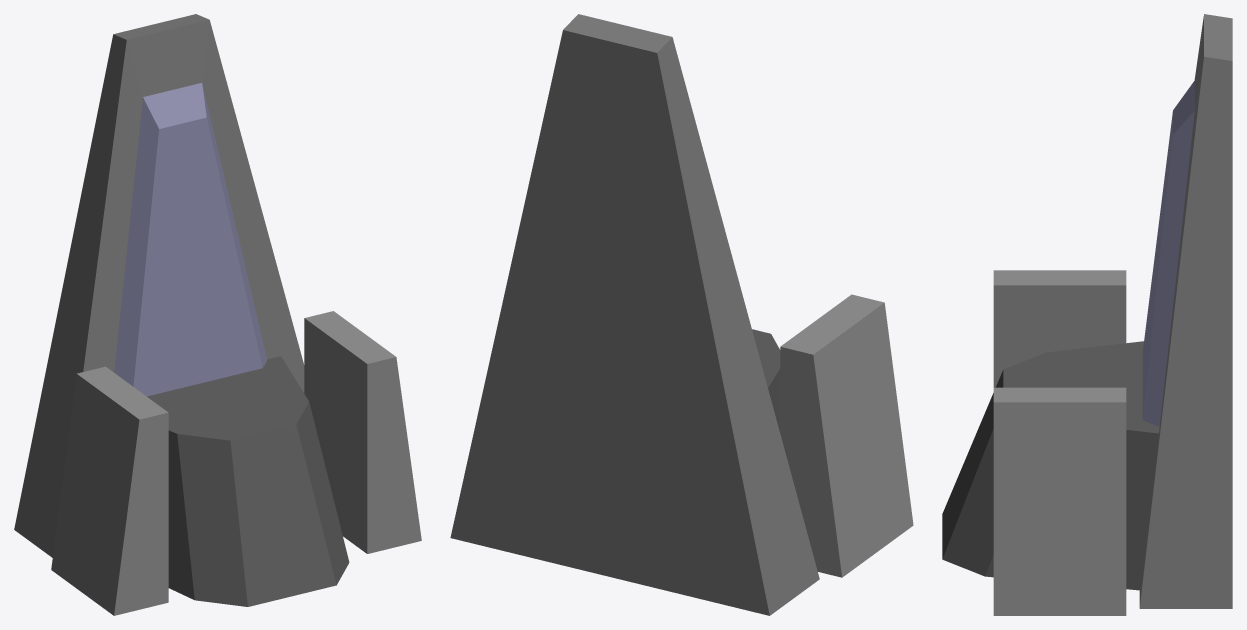
The model's file is Trone.fbx.
The picture shows the model from 3 angles, left to right: view 1: azimuth 30°, elevation 25°; view 2: azimuth 150°, elevation 25°; view 3: azimuth 270°, elevation 25°; orthographic projection. The views are drawn at different scales.
Parts seen in each view (by area): view 1: Trone; view 2: Trone; view 3: Trone.
Part boxes in pixels (<box>): Trone: <box>14,14,421,615</box>; Trone: <box>450,14,913,615</box>; Trone: <box>942,14,1232,615</box>.
Bounding box in the file's own units: 99.5 × 147 × 77.06.
